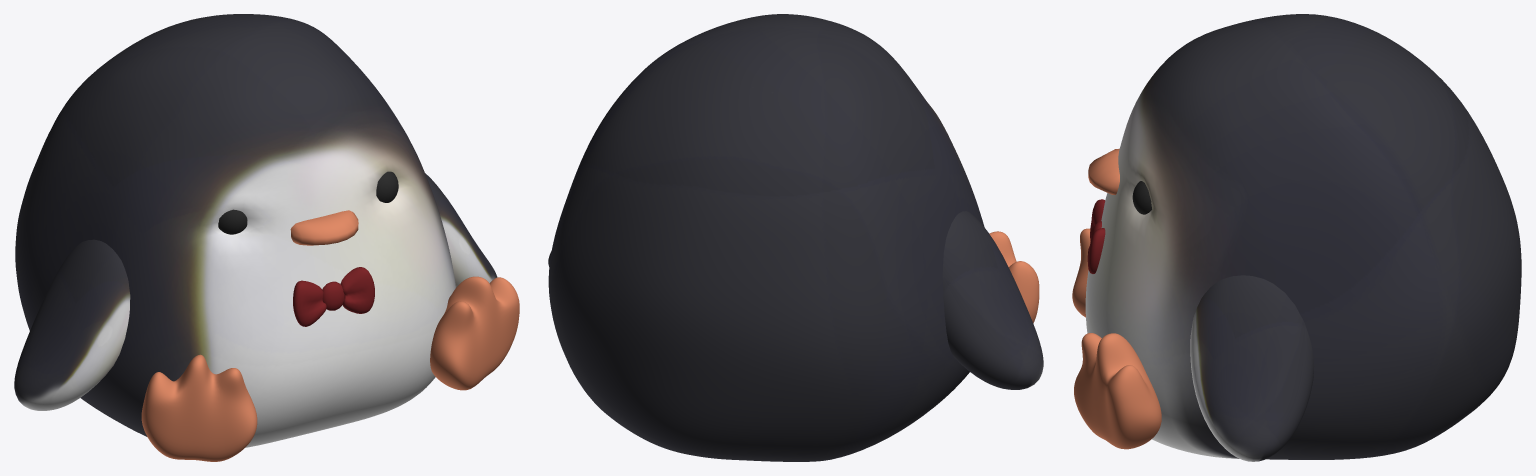
File: Pinwino.fbx
The picture shows the model from 3 angles, left to right: view 1: azimuth 30°, elevation 25°; view 2: azimuth 150°, elevation 25°; view 3: azimuth 270°, elevation 25°; orthographic projection. The views are drawn at different scales.
Visible parts, largest first — view 1: Cube.012, Cubo.023, Cubo.025, Cubo.026, Cubo.024, Cubo.022, Cubo.028, Cubo.029, Esfera.001, Esfera, Cubo.027; view 2: Cube.012, Cubo.023, Cubo.025; view 3: Cube.012, Cubo.024, Cubo.026, Cubo.022, Cubo.025, Cubo.028, Esfera.
Part boxes in pixels (x1=…): Cube.012: x1=15, y1=14, x2=455, y2=447; Cubo.023: x1=14, y1=239, x2=130, y2=410; Cubo.025: x1=141, y1=354, x2=257, y2=461; Cubo.026: x1=430, y1=276, x2=519, y2=390; Cubo.024: x1=425, y1=173, x2=497, y2=287; Cubo.022: x1=290, y1=210, x2=358, y2=245; Cubo.028: x1=340, y1=267, x2=374, y2=313; Cubo.029: x1=293, y1=280, x2=326, y2=326; Esfera.001: x1=218, y1=209, x2=247, y2=234; Esfera: x1=376, y1=171, x2=398, y2=202; Cubo.027: x1=322, y1=281, x2=344, y2=310; Cube.012: x1=548, y1=14, x2=984, y2=461; Cubo.023: x1=942, y1=211, x2=1043, y2=389; Cubo.025: x1=989, y1=231, x2=1039, y2=323; Cube.012: x1=1085, y1=14, x2=1521, y2=459; Cubo.024: x1=1190, y1=275, x2=1314, y2=461; Cubo.026: x1=1074, y1=333, x2=1161, y2=449; Cubo.022: x1=1088, y1=148, x2=1119, y2=195; Cubo.025: x1=1072, y1=228, x2=1090, y2=317; Cubo.028: x1=1087, y1=228, x2=1105, y2=273; Esfera: x1=1132, y1=181, x2=1151, y2=214.
Bounding box in the file's own units: 231 × 168 × 183.
